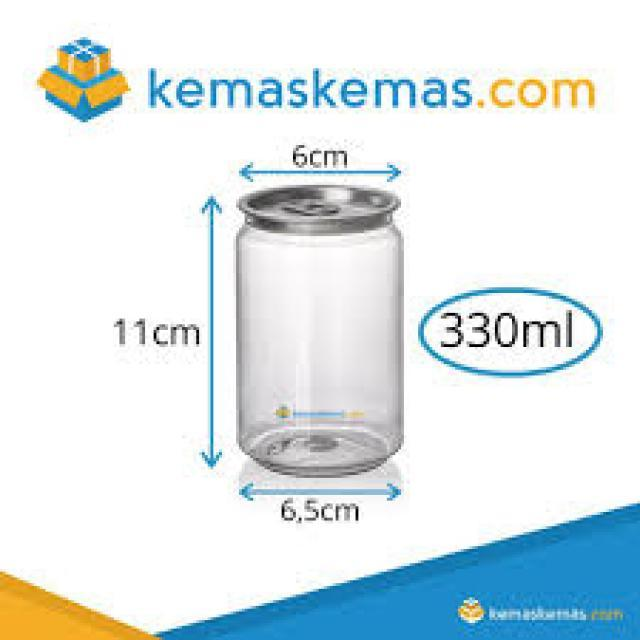bottle: (217, 151, 438, 504)
